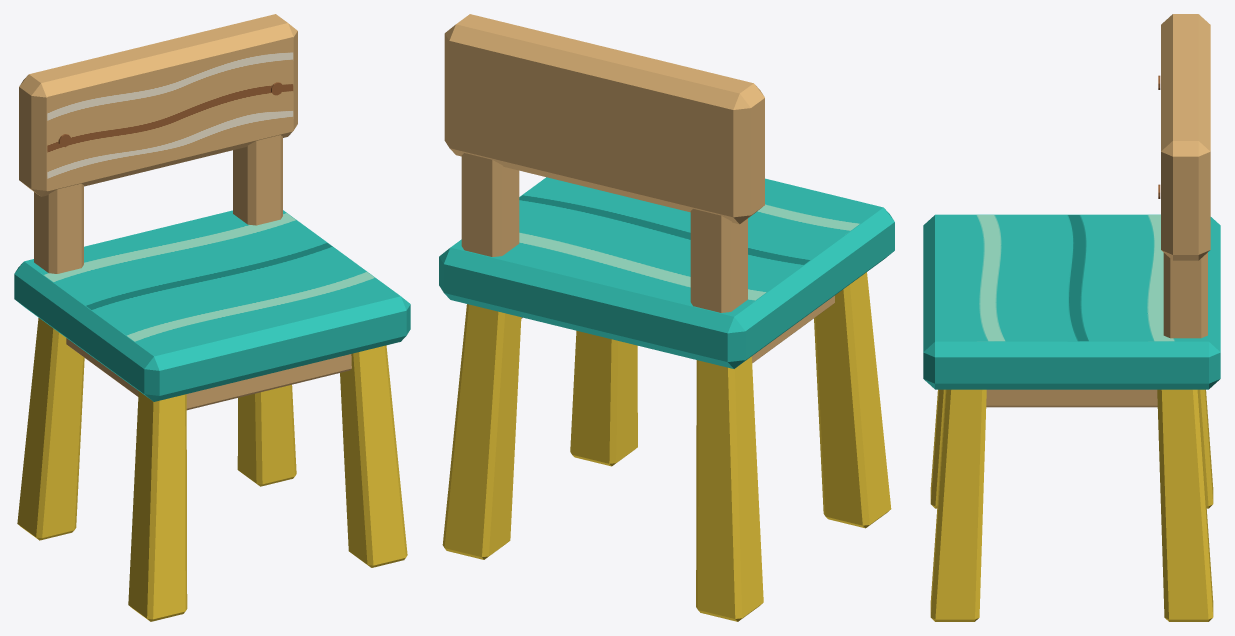
File: asset.glb
3 views of the same model, side by side, from view 1: azimuth 30°, elevation 25°; view 2: azimuth 150°, elevation 25°; view 3: azimuth 270°, elevation 25° (orthographic). The views are drawn at different scales.
Parts seen in each view (by area): view 1: Paint across whole seat, Paint across front of backrest, Solid turquoise seat, Left front yellow leg, Broad wooden backrest, Right front yellow leg, Left back yellow leg, Right back yellow leg, Wooden back upright, Wooden back upright.001, Front wooden apron; view 2: Broad wooden backrest, Paint across whole seat, Solid turquoise seat, Left back yellow leg, Right back yellow leg, Left front yellow leg, Right front yellow leg, Wooden back upright.001, Wooden back upright, Left wooden apron; view 3: Paint across whole seat, Solid turquoise seat, Broad wooden backrest, Right back yellow leg, Right front yellow leg, Wooden back upright.001, Right wooden apron, Left back yellow leg, Left front yellow leg.
Boxes of the visible parts, <box> form: Paint across whole seat: <box>25,210,399,355</box>; Paint across front of backrest: <box>47,37,293,191</box>; Solid turquoise seat: <box>14,210,410,401</box>; Left front yellow leg: <box>128,391,187,621</box>; Broad wooden backrest: <box>19,14,297,196</box>; Right front yellow leg: <box>340,345,407,567</box>; Left back yellow leg: <box>17,317,84,540</box>; Right back yellow leg: <box>237,384,296,486</box>; Wooden back upright: <box>34,183,83,273</box>; Wooden back upright.001: <box>233,135,282,225</box>; Front wooden apron: <box>186,354,351,410</box>; Broad wooden backrest: <box>444,14,764,224</box>; Paint across whole seat: <box>452,177,882,316</box>; Solid turquoise seat: <box>439,177,894,368</box>; Left back yellow leg: <box>696,356,763,621</box>; Right back yellow leg: <box>442,304,521,559</box>; Left front yellow leg: <box>814,272,891,528</box>; Right front yellow leg: <box>570,330,637,466</box>; Wooden back upright.001: <box>461,153,519,256</box>; Wooden back upright: <box>690,209,747,312</box>; Left wooden apron: <box>752,295,834,362</box>; Paint across whole seat: <box>935,215,1208,341</box>; Solid turquoise seat: <box>923,214,1220,389</box>; Broad wooden backrest: <box>1161,14,1210,260</box>; Right back yellow leg: <box>1157,389,1213,621</box>; Right front yellow leg: <box>930,389,986,621</box>; Wooden back upright.001: <box>1163,252,1207,338</box>; Right wooden apron: <box>986,389,1157,407</box>; Left back yellow leg: <box>1198,389,1213,508</box>; Left front yellow leg: <box>930,389,945,508</box>.
Size of the model in its own units: 0.49 by 0.8 by 0.45.
6 materials, 2 textured.
